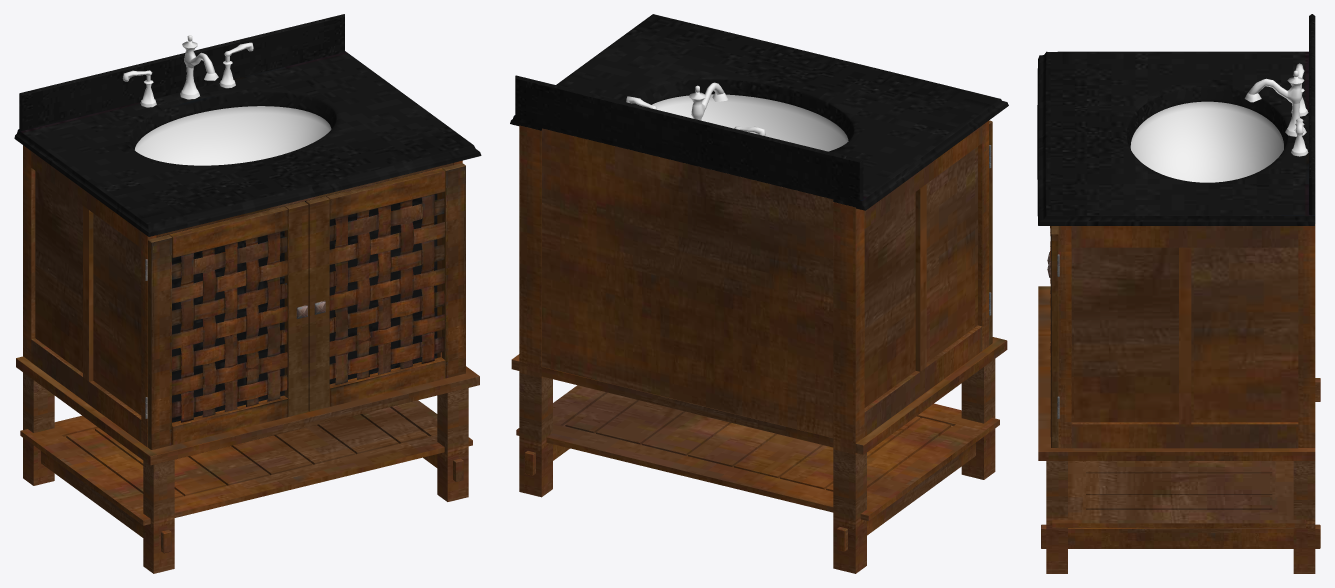
The picture shows the model from 3 angles, left to right: view 1: azimuth 30°, elevation 25°; view 2: azimuth 150°, elevation 25°; view 3: azimuth 270°, elevation 25°; orthographic projection. The views are drawn at different scales.
Parts seen in each view (by area): view 1: Wood_1Mesh, Wood_2Mesh, MarbleMesh, SinkMesh, FaucetMesh; view 2: Wood_1Mesh, MarbleMesh, SinkMesh, FaucetMesh, Wood_2Mesh; view 3: Wood_1Mesh, MarbleMesh, SinkMesh, Wood_2Mesh, FaucetMesh.
Boxes of the visible parts, box(x1,y1,x2,y2) form: Wood_1Mesh: box(16, 145, 479, 573); Wood_2Mesh: box(148, 163, 465, 449); MarbleMesh: box(14, 14, 481, 422); SinkMesh: box(135, 106, 331, 165); FaucetMesh: box(123, 35, 253, 107); Wood_1Mesh: box(511, 121, 1007, 573); MarbleMesh: box(510, 14, 1008, 210); SinkMesh: box(652, 94, 848, 151); FaucetMesh: box(626, 82, 765, 135); Wood_2Mesh: box(989, 120, 992, 345); Wood_1Mesh: box(1038, 224, 1320, 573); MarbleMesh: box(1037, 14, 1315, 225); SinkMesh: box(1130, 101, 1283, 182); Wood_2Mesh: box(1049, 226, 1058, 447); FaucetMesh: box(1244, 63, 1308, 156).
Bounding box in the file's own units: 0.8001 × 0.944 × 0.5716.
Materials: 6 (4 with a texture image).
